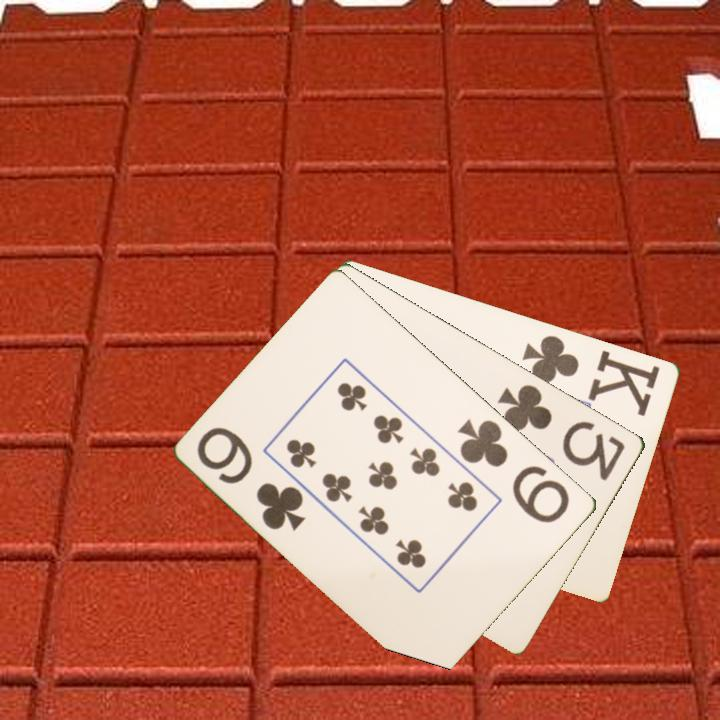3c: (494, 380, 629, 484)
9c: (454, 415, 574, 527), (193, 423, 309, 534)
Kc: (518, 331, 663, 418)
